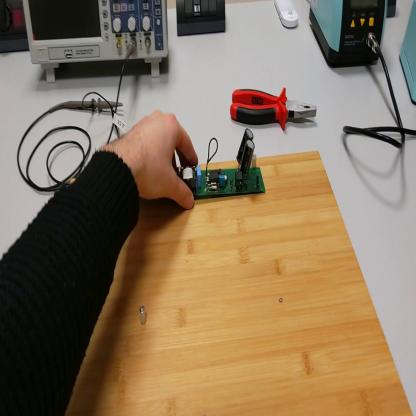hand: (110, 109, 199, 212)
high voltage board: (173, 129, 266, 199)
oscilloscope: (24, 1, 168, 85)
oscilloscope probe tip: (63, 93, 123, 117)
pliers: (232, 88, 317, 132)
socket: (2, 2, 30, 56), (386, 1, 398, 19)
welder base: (401, 3, 416, 109)
welder station: (309, 1, 388, 72)
working area: (68, 151, 413, 415)
